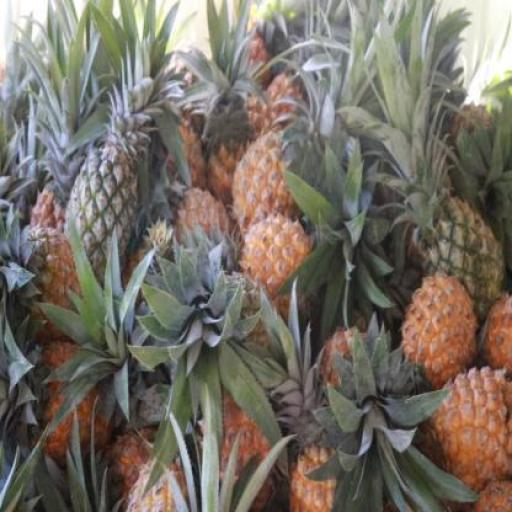Pineapple - v8 v1: (436, 367, 512, 493), (406, 276, 483, 391), (230, 140, 302, 242), (238, 219, 311, 307)
